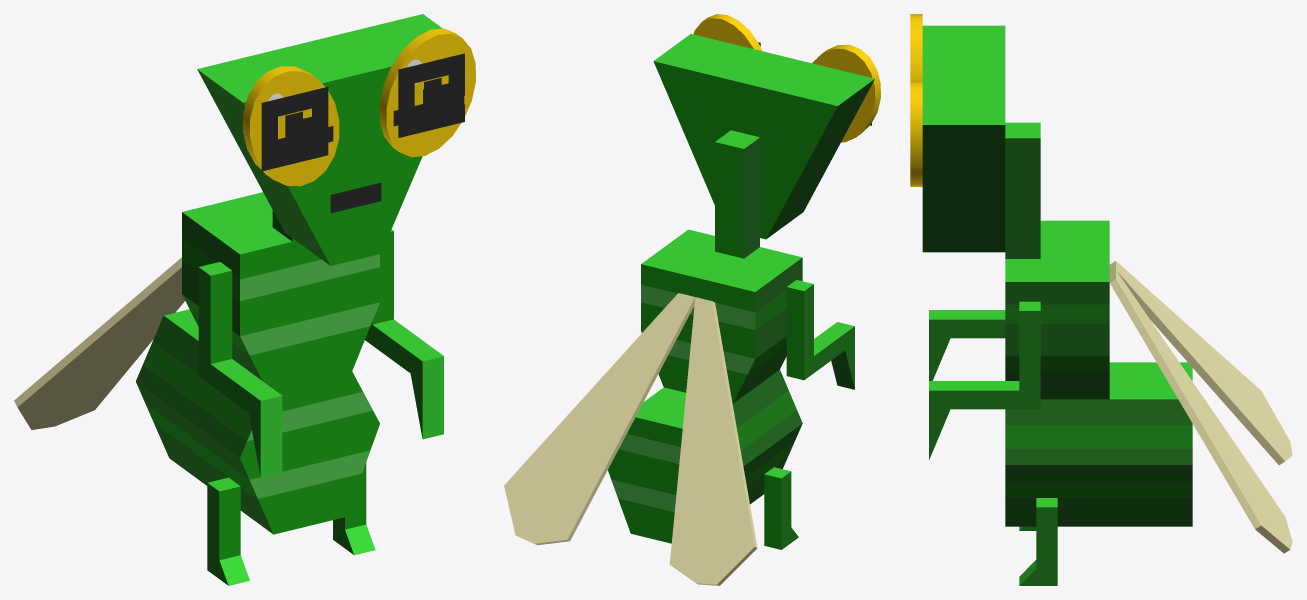
The picture shows the model from 3 angles, left to right: view 1: azimuth 30°, elevation 25°; view 2: azimuth 150°, elevation 25°; view 3: azimuth 270°, elevation 25°; orthographic projection. The views are drawn at different scales.
Parts seen in each view (by area): view 1: Ch_207_Head, Ch_207, Ch_207_Chest, Ch_207_Wing_R, Ch_207_Arm_L, Ch_207_Arm_R, Ch_207_Leg_L, Ch_207_Eye_03_L, Ch_207_Eye_03_R, Ch_207_Eye_02, Ch_207_Leg_R, Ch_207_Eye_01; view 2: Ch_207_Head, Ch_207_Wing_L, Ch_207_Chest, Ch_207_Wing_R, Ch_207, Ch_207_Arm_L, Ch_207_Leg_L; view 3: Ch_207_Head, Ch_207, Ch_207_Chest, Ch_207_Wing_L, Ch_207_Wing_R, Ch_207_Arm_R, Ch_207_Arm_L, Ch_207_Leg_R.
Boxes of the visible parts, x1,y1,x2,y2 form: Ch_207_Head: (197, 14, 475, 265); Ch_207: (136, 309, 379, 534); Ch_207_Chest: (182, 192, 379, 389); Ch_207_Wing_R: (14, 257, 185, 429); Ch_207_Arm_L: (198, 262, 282, 478); Ch_207_Arm_R: (365, 229, 443, 439); Ch_207_Leg_L: (207, 477, 249, 585); Ch_207_Eye_03_L: (261, 87, 328, 171); Ch_207_Eye_03_R: (398, 53, 464, 137); Ch_207_Eye_02: (262, 94, 464, 158); Ch_207_Leg_R: (333, 462, 375, 555); Ch_207_Eye_01: (285, 78, 441, 146); Ch_207_Head: (653, 14, 880, 258); Ch_207_Wing_L: (504, 293, 695, 545); Ch_207_Chest: (641, 229, 802, 403); Ch_207_Wing_R: (669, 297, 757, 585); Ch_207: (608, 369, 802, 543); Ch_207_Arm_L: (786, 280, 854, 389); Ch_207_Leg_L: (764, 467, 798, 549); Ch_207_Head: (910, 14, 1040, 258); Ch_207: (1005, 362, 1192, 526); Ch_207_Chest: (1005, 220, 1109, 399); Ch_207_Wing_L: (1109, 270, 1292, 553); Ch_207_Wing_R: (1109, 261, 1292, 465); Ch_207_Arm_R: (929, 301, 1040, 459); Ch_207_Arm_L: (929, 310, 1005, 380); Ch_207_Leg_R: (1019, 498, 1057, 585).
Size of the model in its own units: 6.02 by 10.47 by 7.24.
